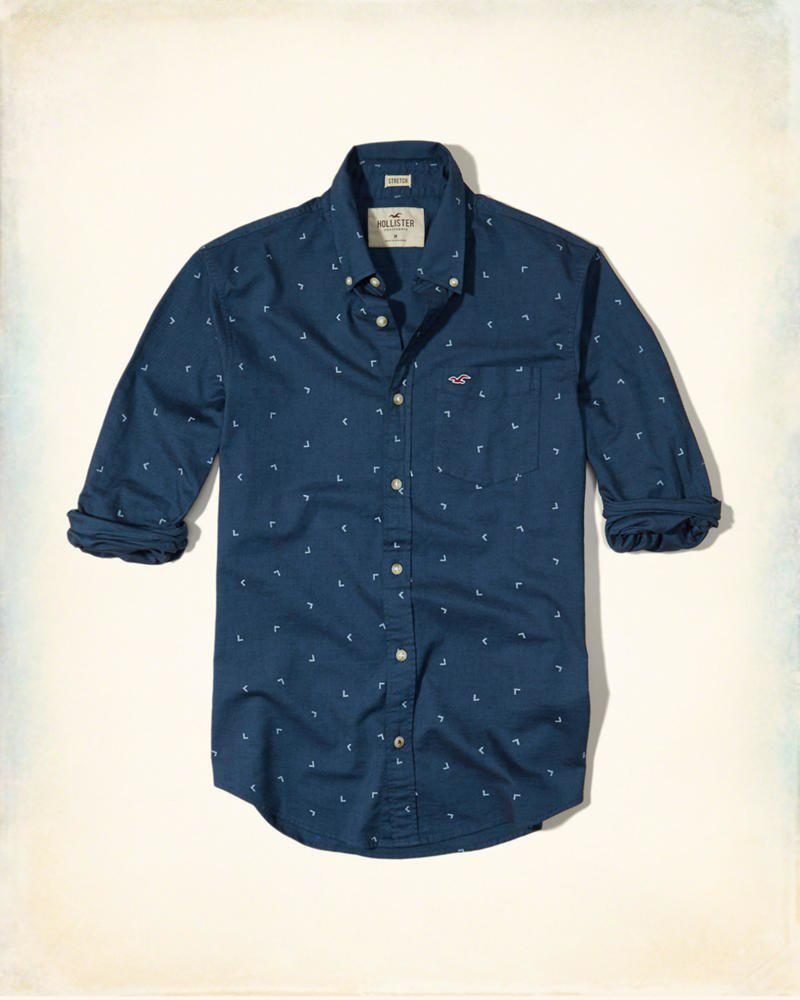teeshirt: (45, 137, 735, 851)
